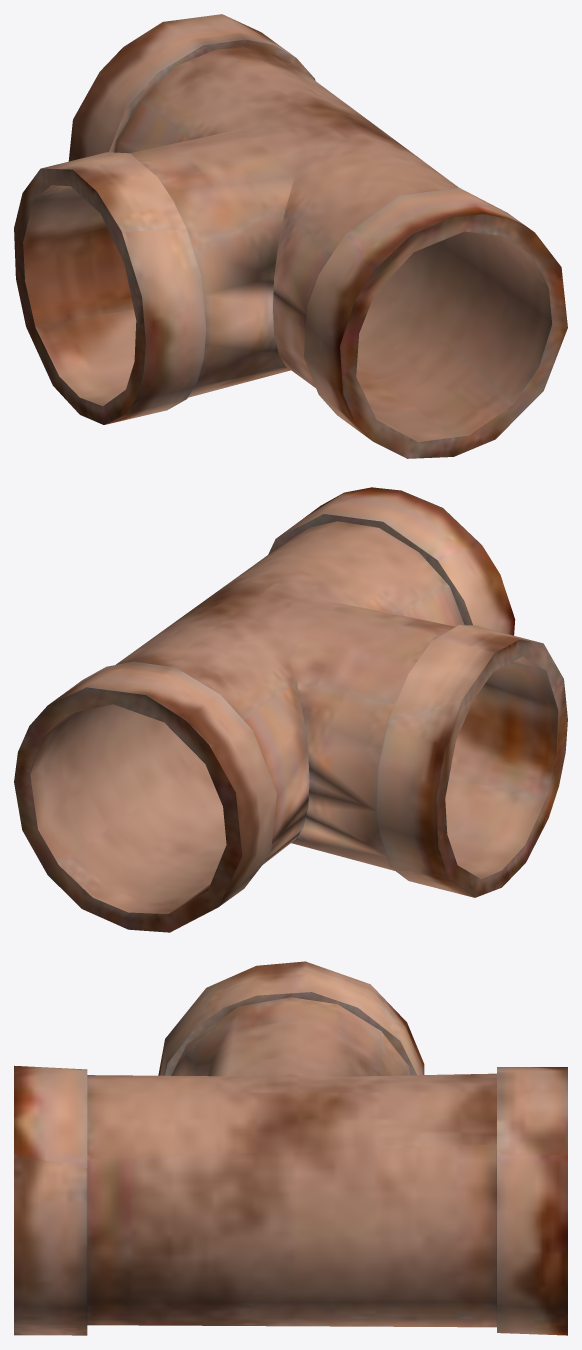
Rendered from small_copper_pipe_08.glb.
3 views of the same model, one above another, from view 1: azimuth 30°, elevation 25°; view 2: azimuth 150°, elevation 25°; view 3: azimuth 270°, elevation 25° (orthographic).
Visible parts, largest first — view 1: small_copper_pipe_08; view 2: small_copper_pipe_08; view 3: small_copper_pipe_08.
Boxes of the visible parts, <box> form: small_copper_pipe_08: <box>14,14,567,458</box>; small_copper_pipe_08: <box>14,487,567,932</box>; small_copper_pipe_08: <box>14,961,567,1335</box>.
Size of what is drawn, in the model's own units: 0.033 by 0.0215 by 0.0444.
Materials: 1 (1 with a texture image).
